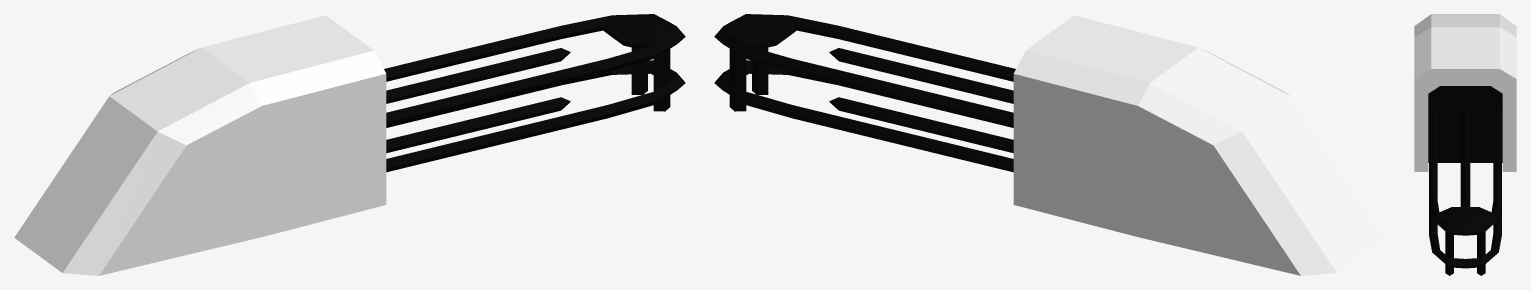
File: Bowling_Machine.fbx
3 views of the same model, side by side, from view 1: azimuth 30°, elevation 25°; view 2: azimuth 150°, elevation 25°; view 3: azimuth 270°, elevation 25° (orthographic). The views are drawn at different scales.
Parts seen in each view (by area): view 1: Bowling_Machine; view 2: Bowling_Machine; view 3: Bowling_Machine.
Boxes of the visible parts, bbox=[...] form: Bowling_Machine: bbox=[14, 14, 685, 275]; Bowling_Machine: bbox=[714, 14, 1385, 275]; Bowling_Machine: bbox=[1414, 14, 1516, 275].
Bounding box in the file's own units: 211 × 46.57 × 41.46.
